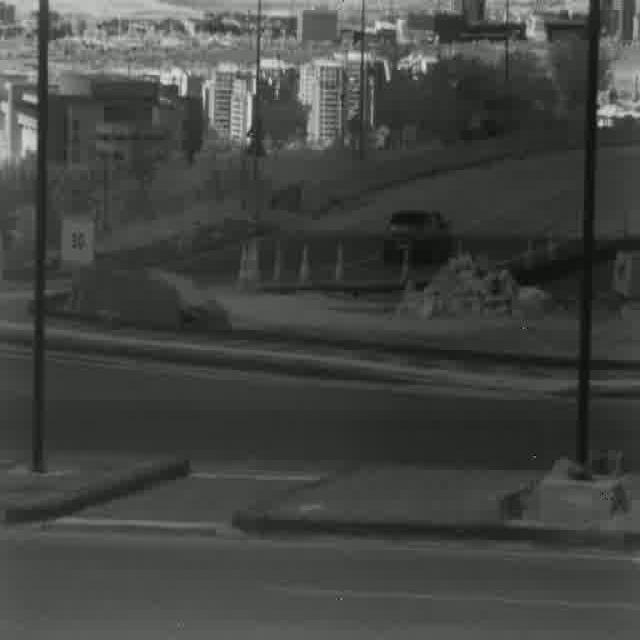Car: (382, 210, 456, 270)
